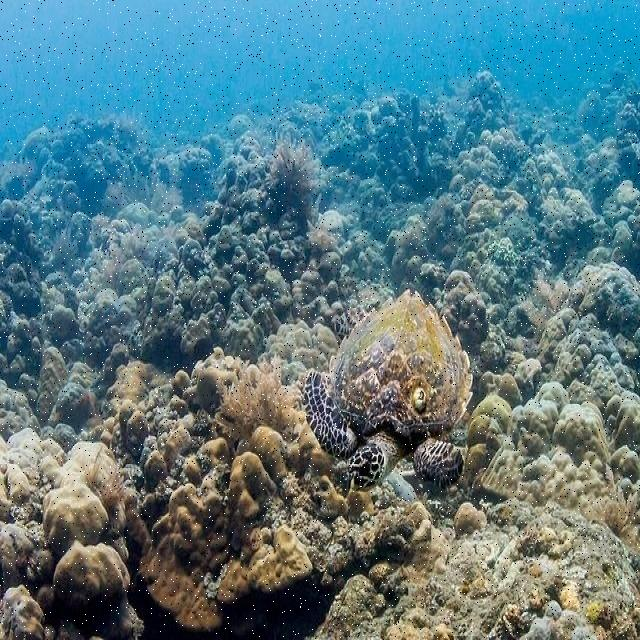fish: (303, 289, 474, 495)
sea-floor: (0, 347, 435, 637)
